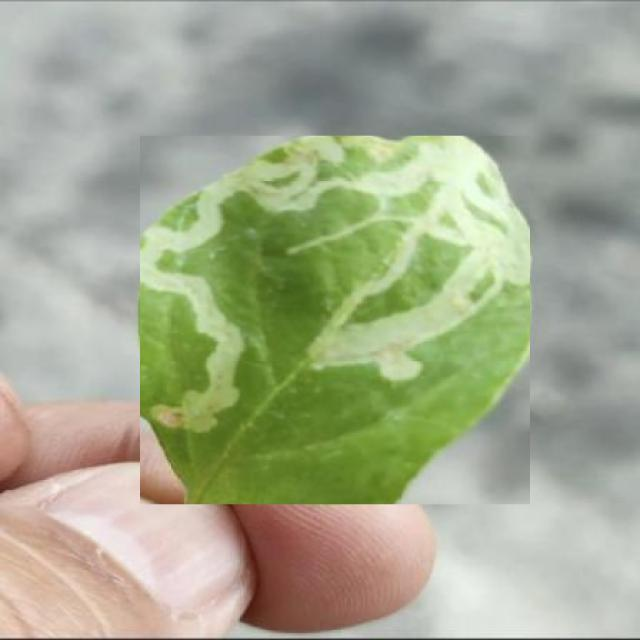Leaf Miner: (140, 136, 530, 504)
